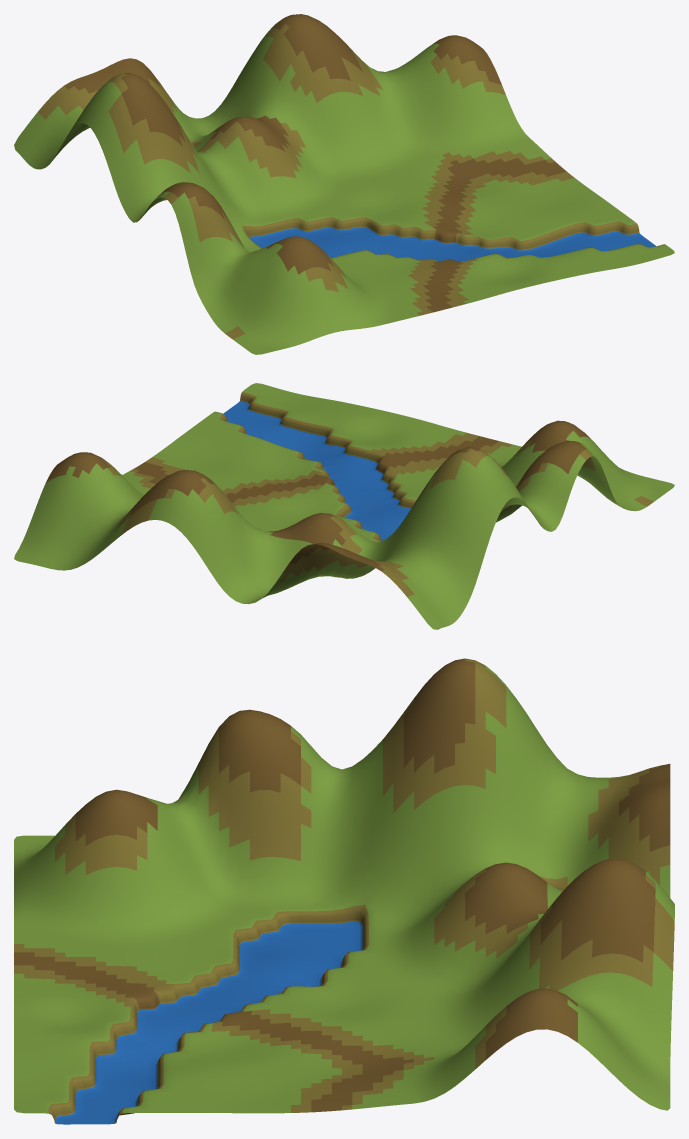
Rendered from Terreno.fbx.
The picture shows the model from 3 angles, top to bottom: view 1: azimuth 30°, elevation 25°; view 2: azimuth 150°, elevation 25°; view 3: azimuth 270°, elevation 25°; orthographic projection. The views are drawn at different scales.
Visible parts, largest first — view 1: Plane; view 2: Plane; view 3: Plane.
Part boxes in pixels (box(x1,y1,x2,y2)): Plane: box(14, 14, 674, 354); Plane: box(14, 383, 674, 629); Plane: box(14, 658, 674, 1124).
Size of the model in its own units: 1173 by 430 by 1181.
